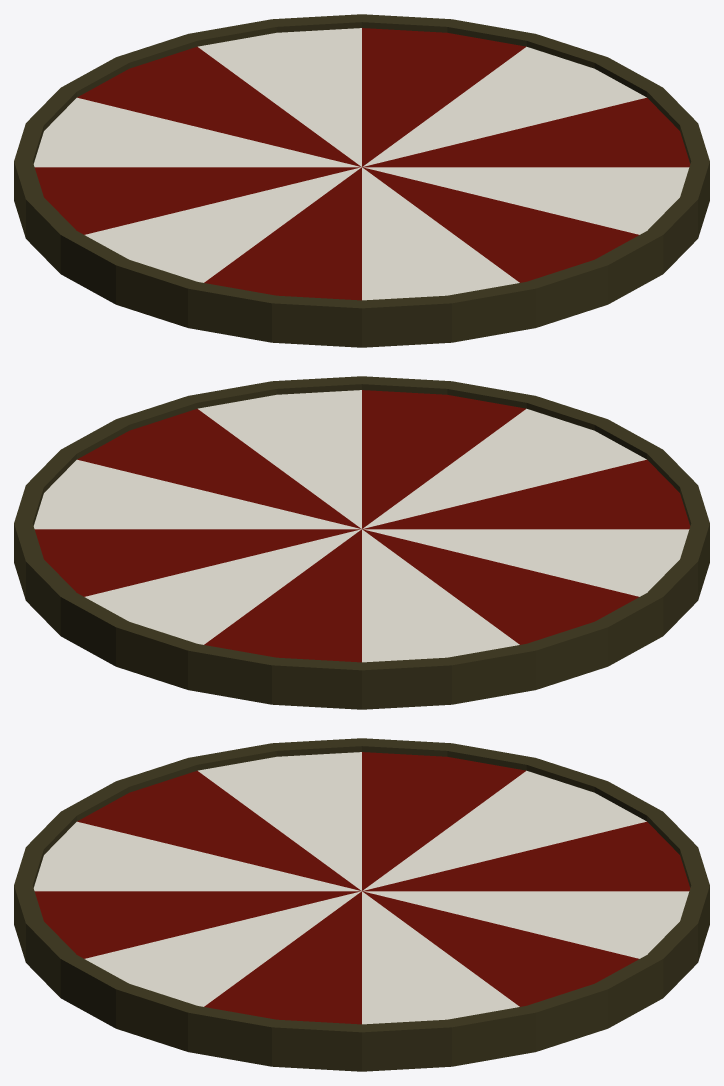
The model's file is Rond_TableTournante.fbx.
The picture shows the model from 3 angles, top to bottom: view 1: azimuth 30°, elevation 25°; view 2: azimuth 150°, elevation 25°; view 3: azimuth 270°, elevation 25°; orthographic projection.
Visible parts, largest first — view 1: Cylinder; view 2: Cylinder; view 3: Cylinder.
Part boxes in pixels (x1,y1,x2,y2): Cylinder: [14, 14, 709, 347]; Cylinder: [14, 376, 709, 709]; Cylinder: [14, 738, 709, 1071].
Bounding box in the file's own units: 400 × 25 × 400.
